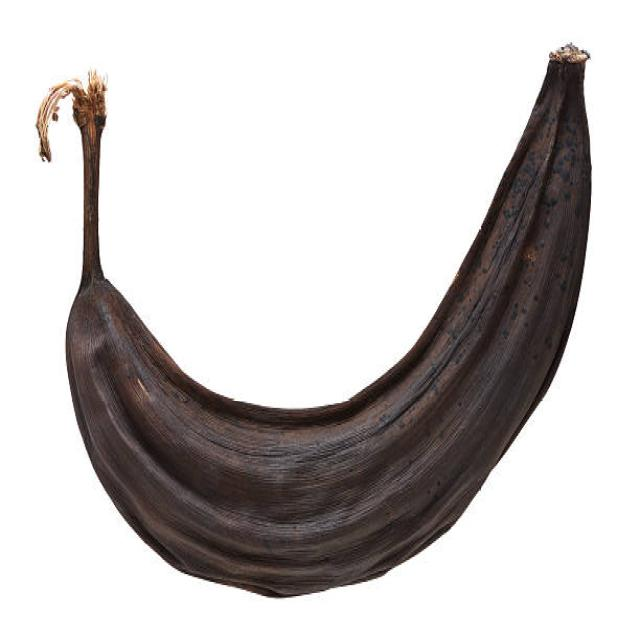Rotten: (65, 42, 596, 598)
